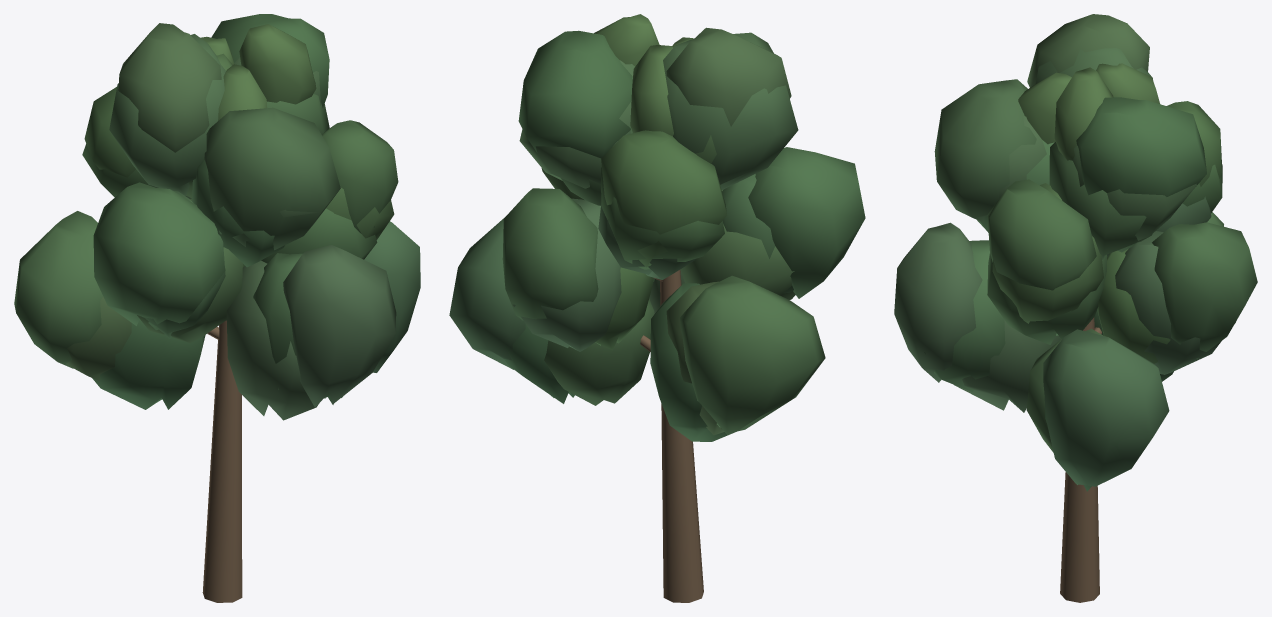
Rendered from casuarina-original.glb.
3 views of the same model, side by side, from view 1: azimuth 30°, elevation 25°; view 2: azimuth 150°, elevation 25°; view 3: azimuth 270°, elevation 25° (orthographic). The views are drawn at different scales.
Parts seen in each view (by area): view 1: Casuarina_original; view 2: Casuarina_original; view 3: Casuarina_original.
Part boxes in pixels (bbox=[...]): Casuarina_original: bbox=[14, 14, 420, 602]; Casuarina_original: bbox=[449, 14, 865, 602]; Casuarina_original: bbox=[894, 14, 1257, 602].
Size of the model in its own units: 0.6959 by 1.02 by 0.607.
